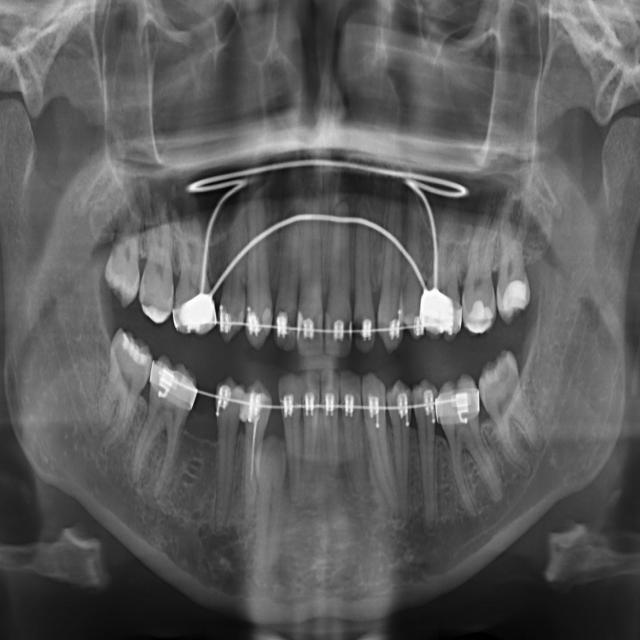3M ESPE Implant: (102, 225, 158, 302)
AGS Medikal Implant: (477, 358, 549, 472)
AMerOss Implant: (434, 382, 499, 510)
Amalgam filling: (138, 215, 180, 320)
Anthogyr Implant: (415, 387, 441, 520)
Bicon Implant: (390, 387, 413, 511)
BioHorizons Implant: (361, 376, 401, 513)
BioLife Implant: (342, 373, 367, 501)
Biomet 3i Implant: (325, 377, 342, 483)
Blue Sky Bio Implant: (303, 374, 321, 489)
Camlog Implant: (278, 375, 308, 489)
Caries: (354, 210, 379, 350)
Composite filling: (249, 433, 289, 583)
Cowellmedi Implant: (252, 500, 252, 501)
Crown: (205, 375, 247, 524)
DENTSPLY Implant: (172, 213, 217, 335)
Dentis Implant: (134, 360, 202, 497)
Dentium Implant: (118, 401, 119, 402)
Filling: (218, 206, 247, 344)
Frontier Implant: (247, 199, 271, 343)
Hiossen Implant: (375, 194, 414, 345)
Implant: (300, 202, 322, 356)
Implant Direct: (275, 202, 298, 355)
Keystone Dental Implant: (323, 210, 349, 354)
MIS Implant: (406, 205, 428, 329)
Maxilla: (422, 218, 463, 331)
Megagen Implant: (463, 200, 507, 334)
Neodent Implant: (494, 221, 532, 325)
